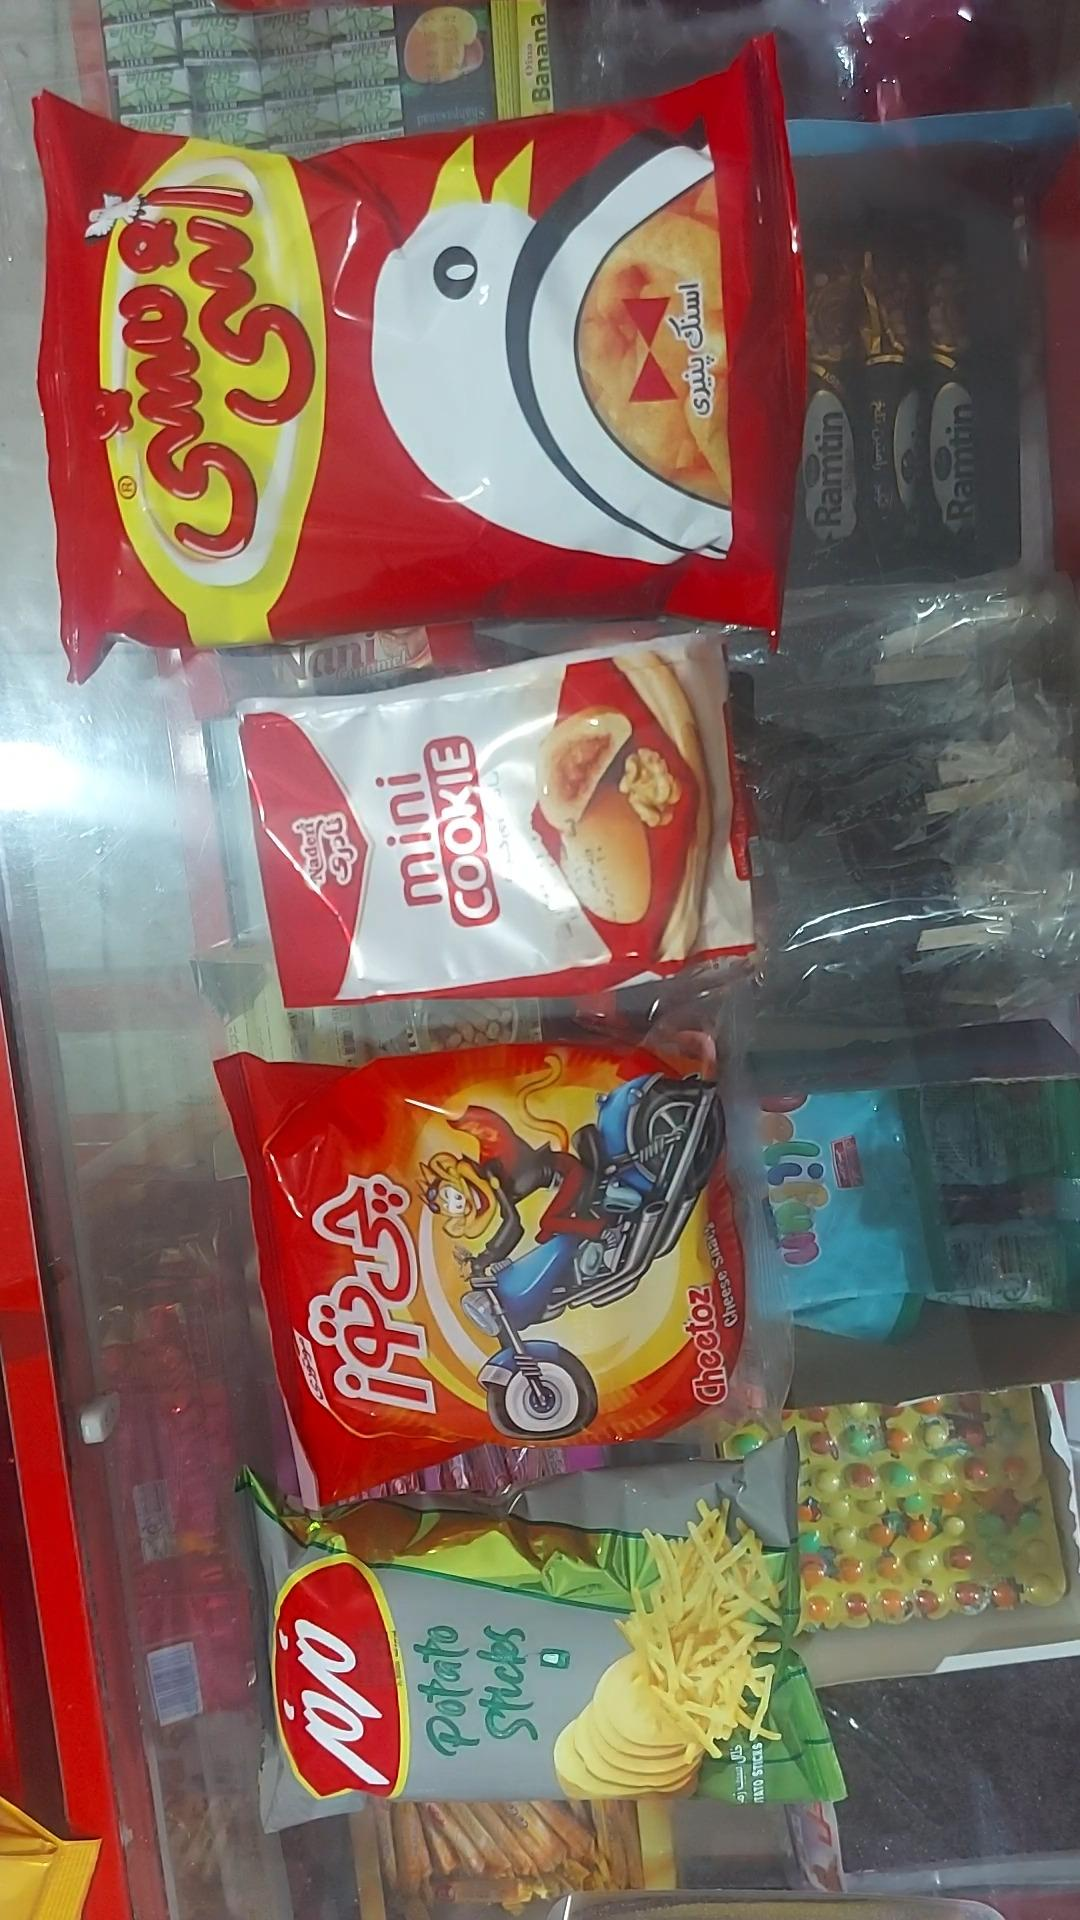Ashi Mashi snacks: (36, 51, 803, 676)
Cheetoz snack 30g: (216, 977, 795, 1501)
Maz Maz potato sticks: (248, 1429, 843, 1832)
Naderi mini cookie: (237, 634, 752, 1007)
